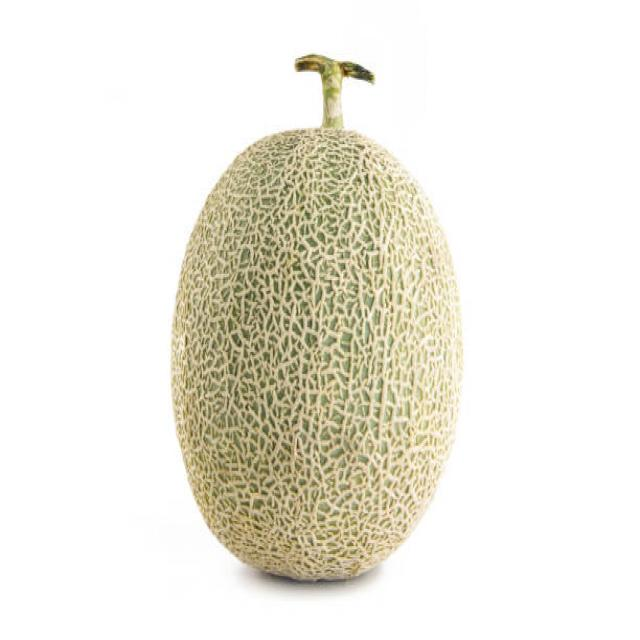melon: (164, 94, 470, 587)
